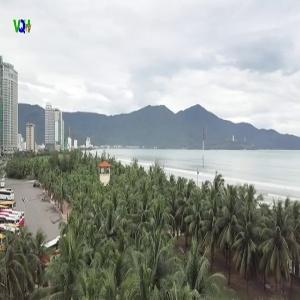drone: (90, 215, 136, 261)
